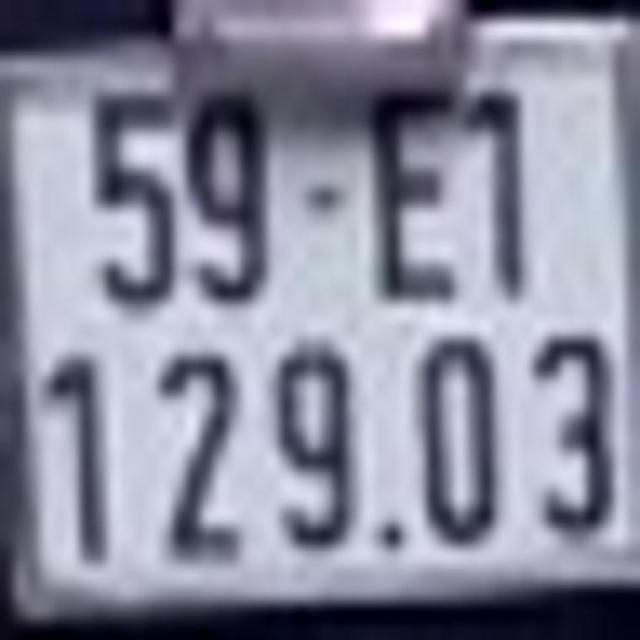0: (410, 324, 506, 542)
1: (47, 348, 118, 568), (476, 84, 536, 303)
2: (154, 352, 249, 564)
3: (535, 329, 619, 537)
5: (86, 85, 180, 316)
9: (185, 86, 273, 308), (277, 345, 357, 554)
E: (366, 92, 464, 303)
